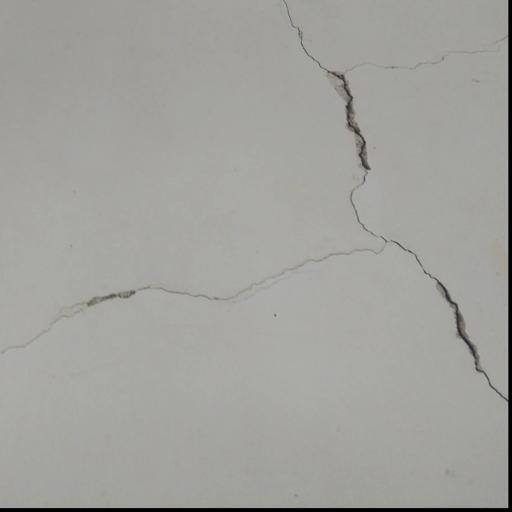minor_crack: (0, 0, 507, 407)
